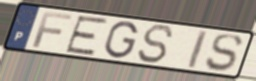E: (63, 15, 111, 57)
F: (31, 10, 75, 49)
G: (103, 20, 140, 60)
I: (187, 29, 210, 70)
S: (136, 23, 176, 65), (204, 34, 244, 73)
